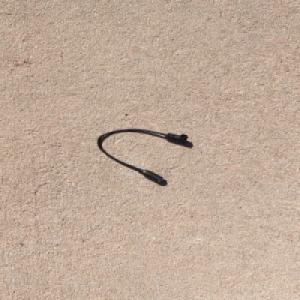Wire: (94, 127, 188, 182)
